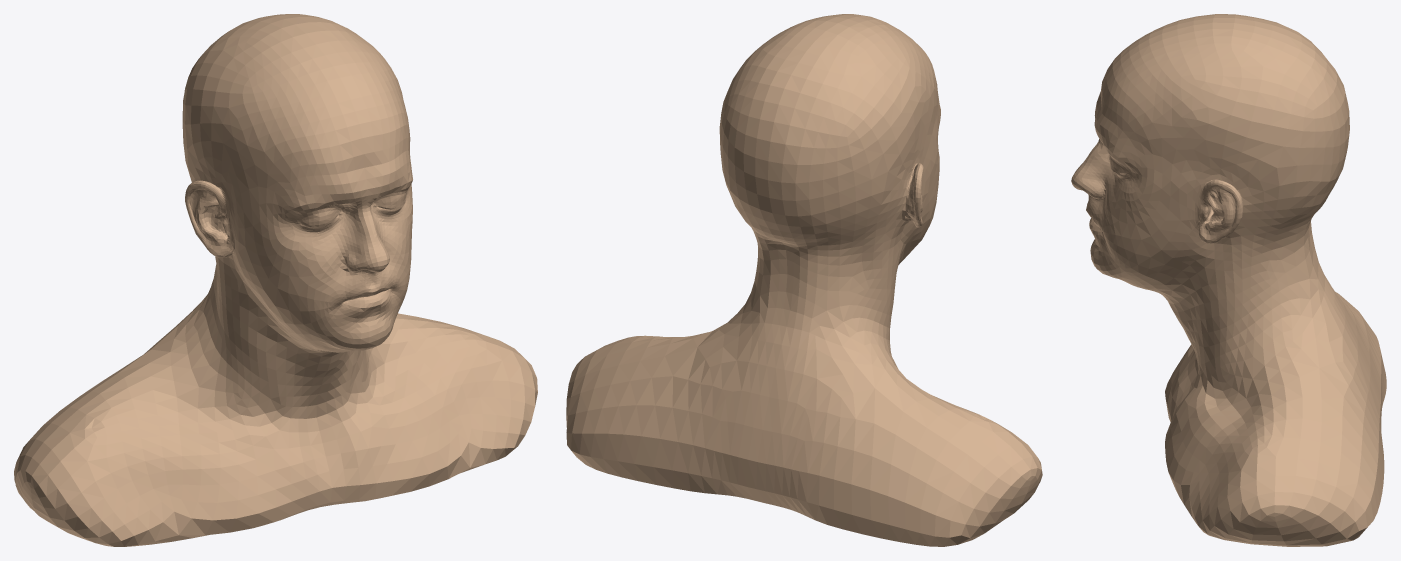
File: skin.dae
3 renders of one model, left to right at view 1: azimuth 30°, elevation 25°; view 2: azimuth 150°, elevation 25°; view 3: azimuth 270°, elevation 25°, orthographic. The views are drawn at different scales.
Parts seen in each view (by area): view 1: skin4, skin3, skin2, skin11, skin12, skin13, skin9; view 2: skin4, skin11, skin3, skin12, skin2; view 3: skin4, skin3, skin2, skin11, skin12, skin13.
Part boxes in pixels (x1,y1,x2,y2): skin4: (17,14,535,546); skin3: (221,90,412,301); skin2: (234,236,411,352); skin11: (14,353,537,546); skin12: (185,169,236,257); skin13: (189,189,218,236); skin9: (298,194,406,228); skin4: (566,14,1037,537); skin11: (566,357,1042,546); skin3: (908,36,940,196); skin12: (895,149,923,227); skin2: (898,165,938,264); skin4: (1129,14,1386,534); skin3: (1071,44,1210,228); skin2: (1089,201,1207,291); skin11: (1208,492,1367,546); skin12: (1192,168,1252,243); skin13: (1210,187,1235,230).
Bounding box in the file's own units: 0.4533 × 0.2746 × 0.4211.
